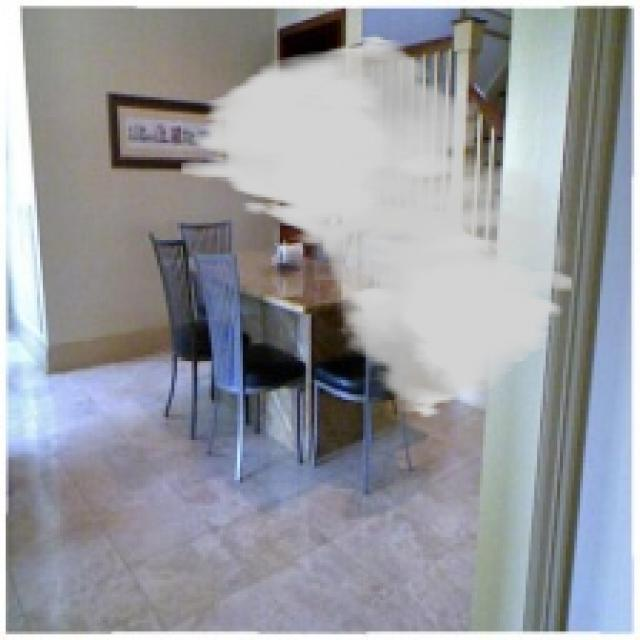Smoke: (180, 34, 574, 420)
